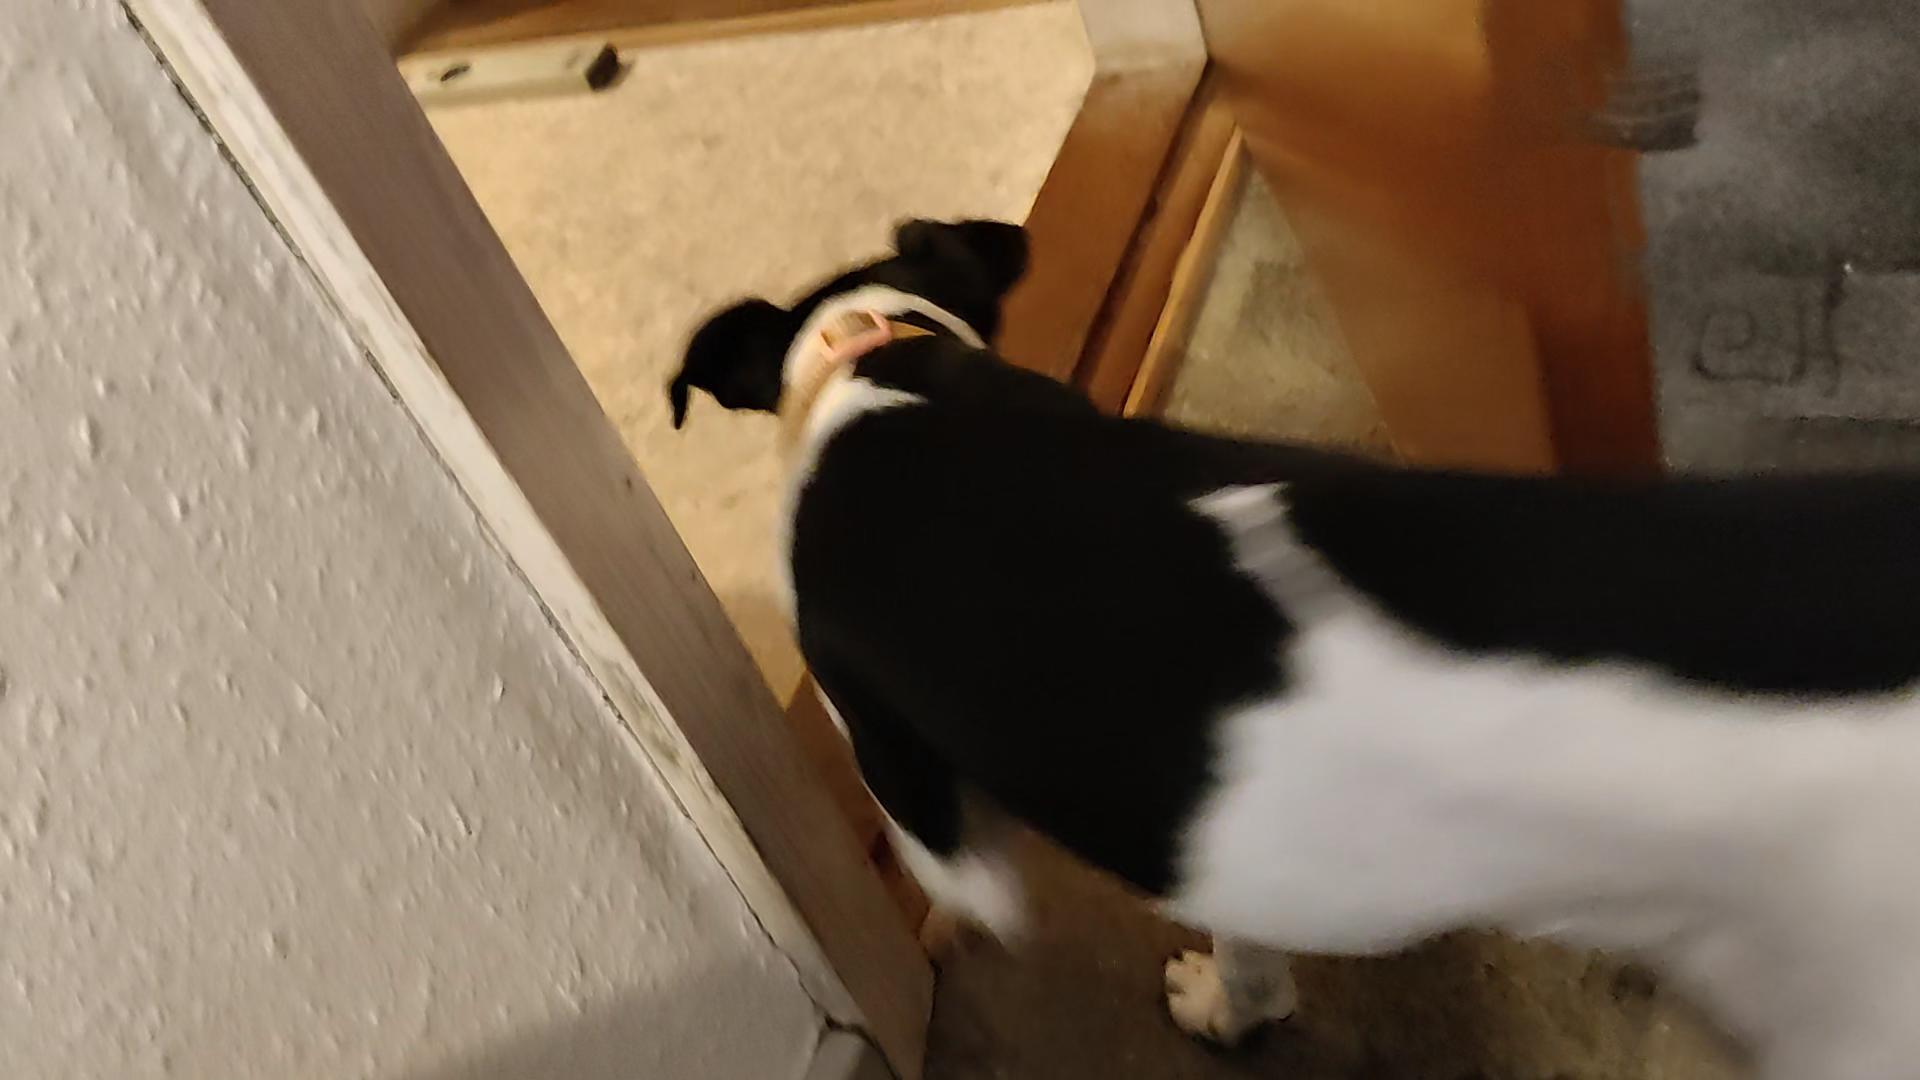Dog: (659, 212, 1919, 1079)
